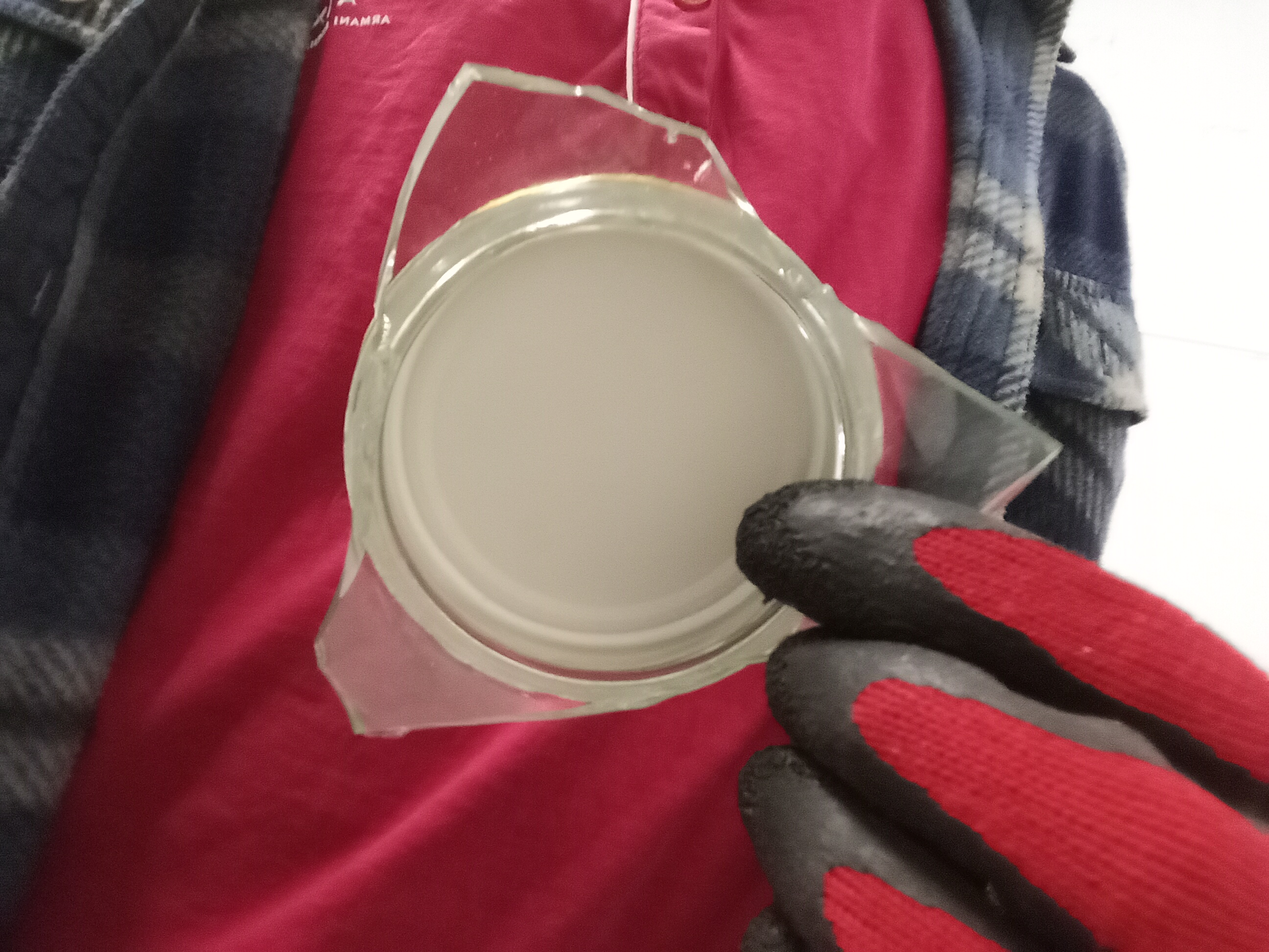Ordinario: (299, 61, 1066, 738)
